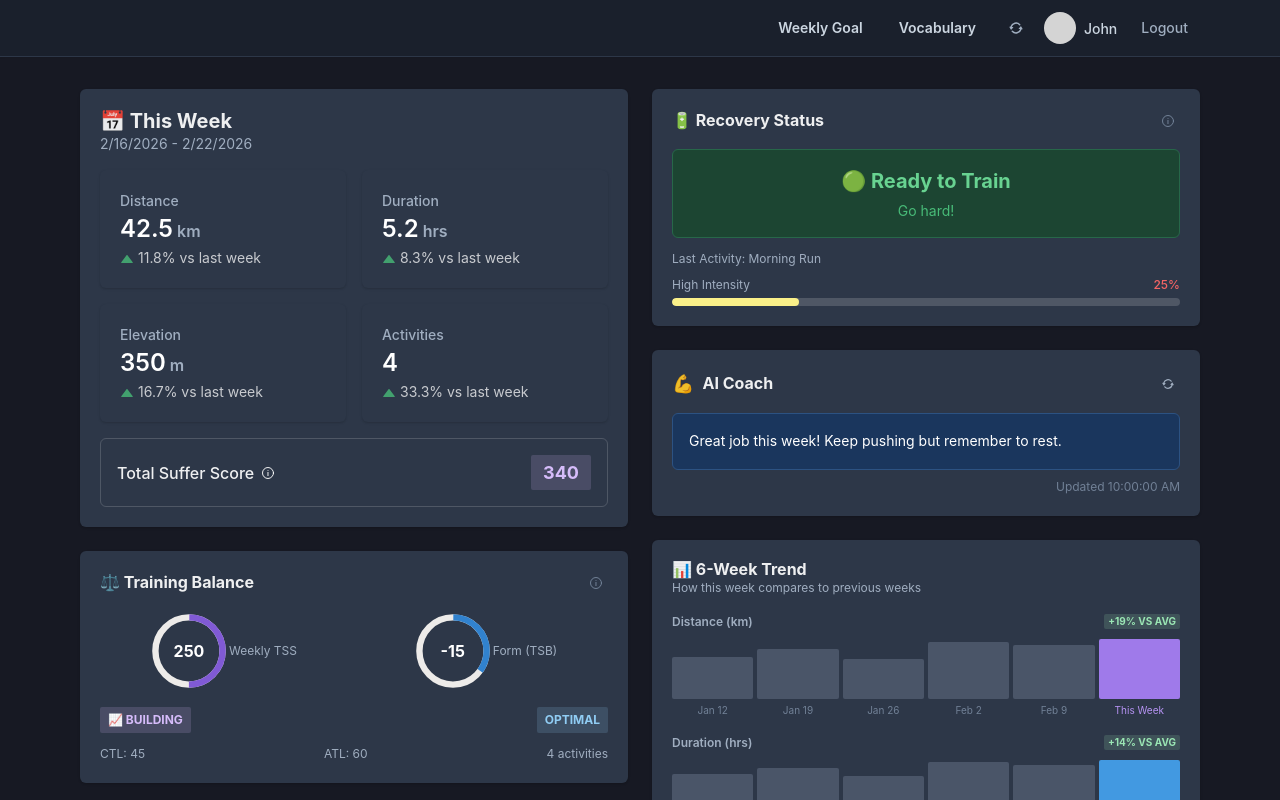
Test: Dashboard › sync functionality › shows error toast on sync failure
Click the button named "Sync activities" at (1016, 28), box [1000,12,1032,44]
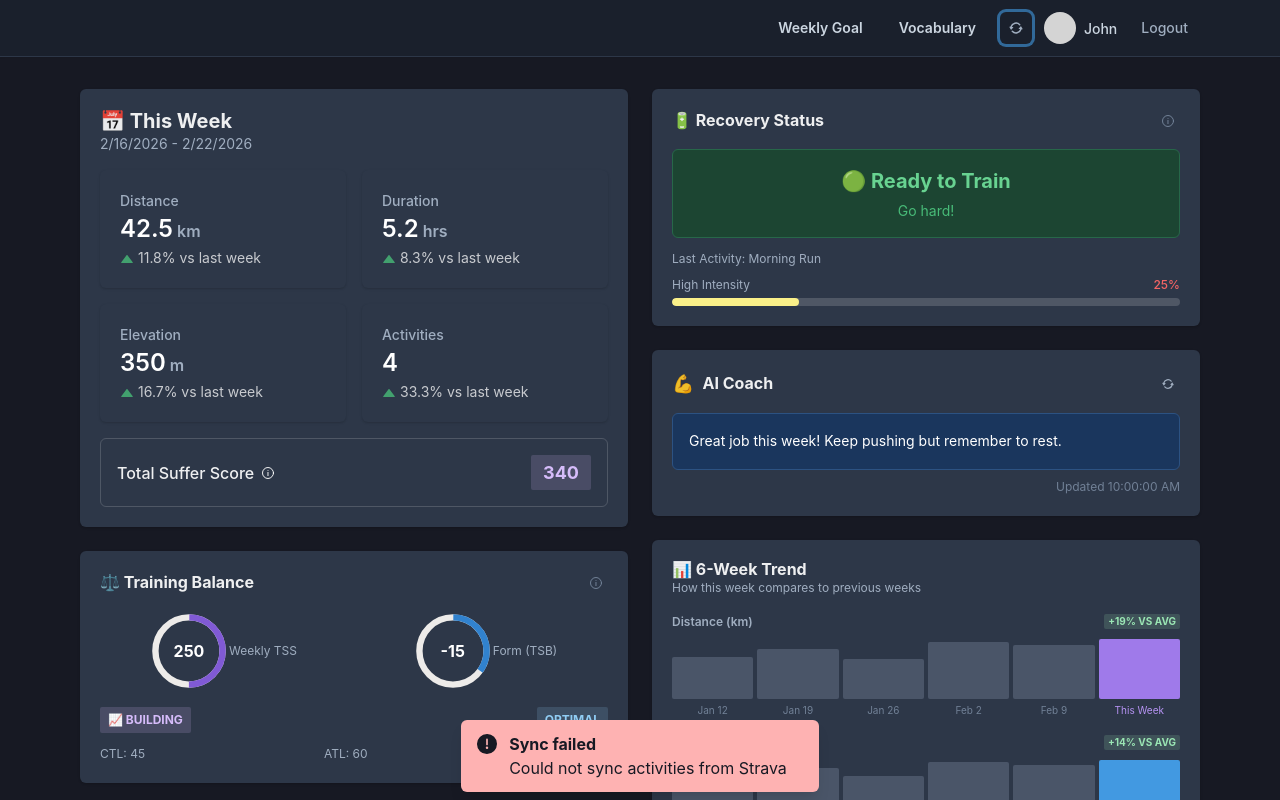
Check: the text "Sync failed" is shown, box [509,734,596,754]
